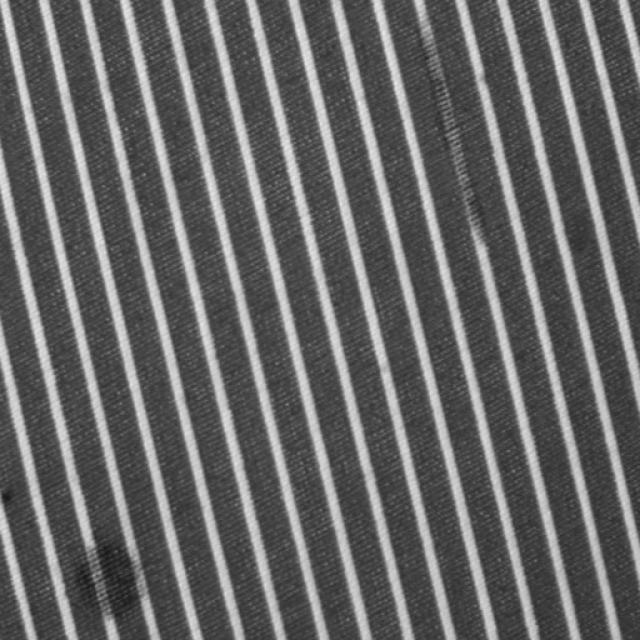Stain-Defect: (419, 21, 484, 240), (74, 538, 145, 612)
